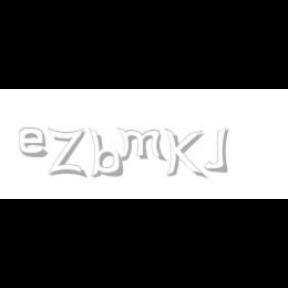J: (204, 128, 228, 172)
K: (164, 128, 204, 180)
Z: (48, 128, 84, 178)
b: (88, 128, 126, 178)
e: (18, 128, 52, 158)
m: (116, 128, 168, 162)
